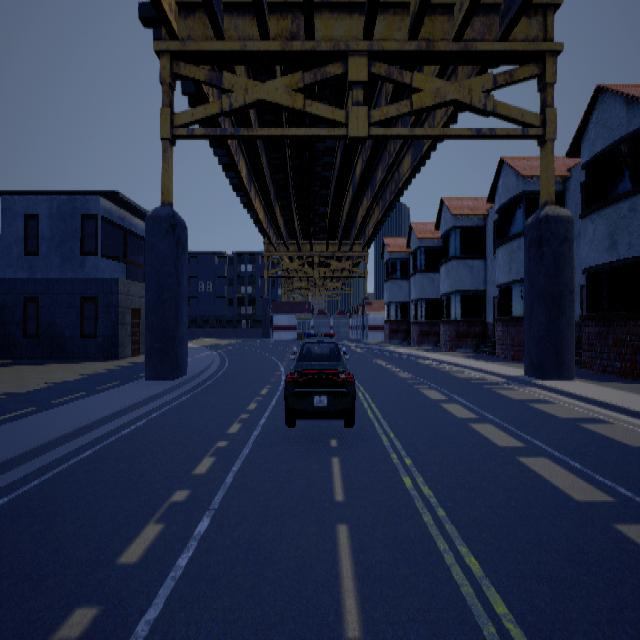vehicle: (285, 332, 357, 426)
